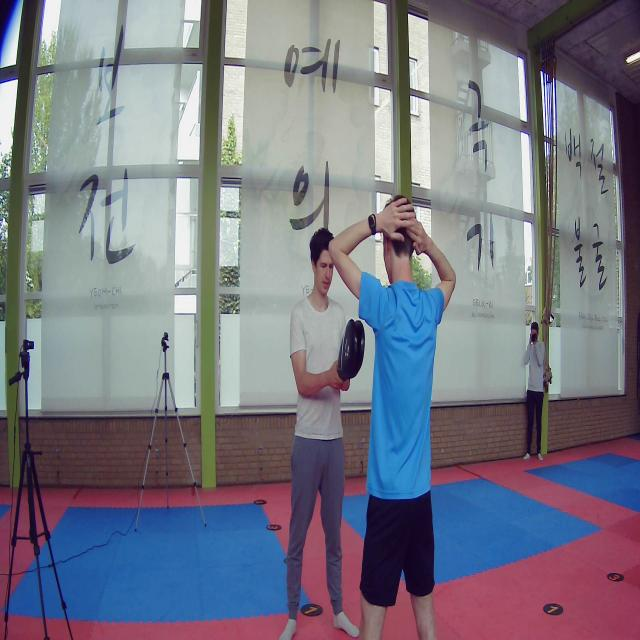paddle: (338, 319, 365, 380)
